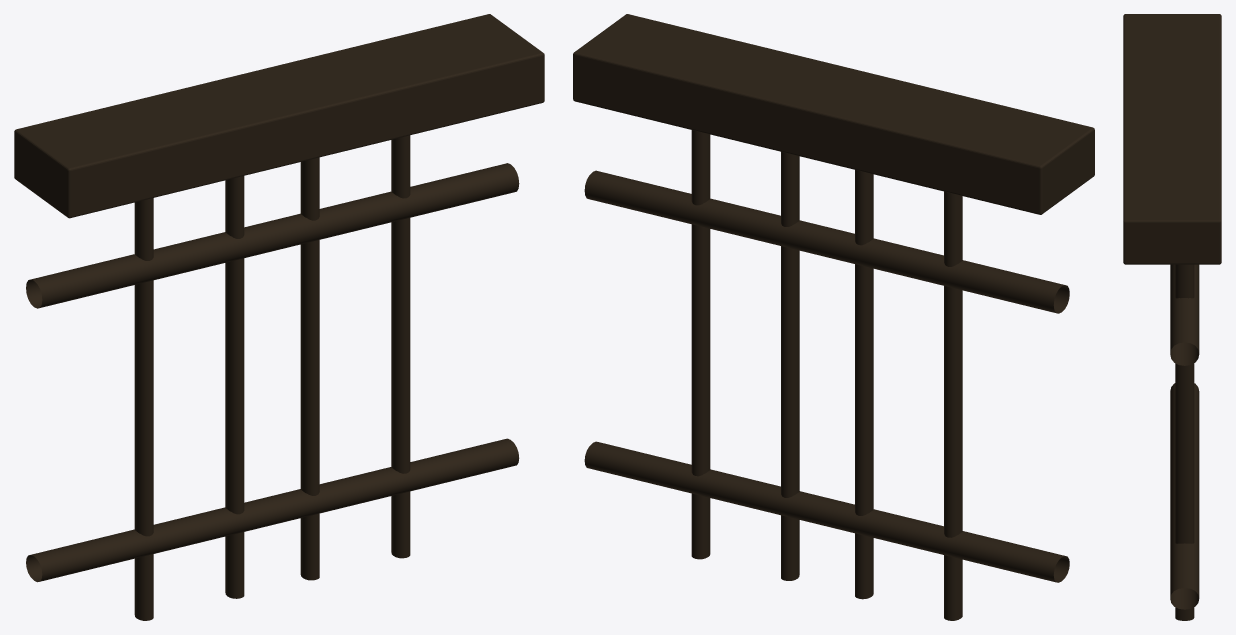
Rendered from GrataTop.fbx.
3 renders of one model, left to right at view 1: azimuth 30°, elevation 25°; view 2: azimuth 150°, elevation 25°; view 3: azimuth 270°, elevation 25°, orthographic. The views are drawn at different scales.
Visible parts, largest first — view 1: GrataTop, Cube.001, Cube.016; view 2: GrataTop, Cube.001, Cube.016; view 3: GrataTop, Cube.016, Cube.001.
Boxes of the visible parts, x1,y1,x2,y2 form: GrataTop: [14, 14, 544, 218]; Cube.001: [134, 135, 410, 620]; Cube.016: [26, 163, 519, 582]; GrataTop: [573, 14, 1094, 214]; Cube.001: [691, 130, 962, 620]; Cube.016: [584, 170, 1069, 582]; GrataTop: [1123, 14, 1221, 264]; Cube.016: [1170, 264, 1199, 609]; Cube.001: [1175, 264, 1194, 620].
Bounding box in the file's own units: 200 × 200 × 40.
